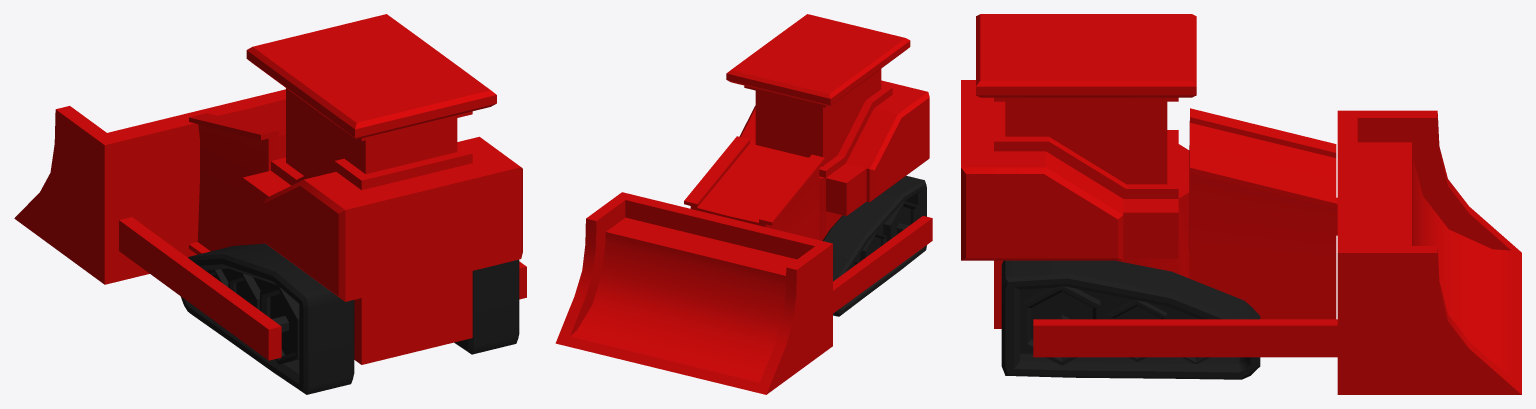
Rendered from Bulldozer.fbx.
The picture shows the model from 3 angles, left to right: view 1: azimuth 30°, elevation 25°; view 2: azimuth 150°, elevation 25°; view 3: azimuth 270°, elevation 25°; orthographic projection. The views are drawn at different scales.
Visible parts, largest first — view 1: Bulldozer; view 2: Bulldozer; view 3: Bulldozer.
Boxes of the visible parts, box(x1,y1,x2,y2) form: Bulldozer: box(14, 14, 526, 394); Bulldozer: box(555, 14, 932, 394); Bulldozer: box(961, 14, 1521, 394).
Bounding box in the file's own units: 3.36 × 3.09 × 5.6.
